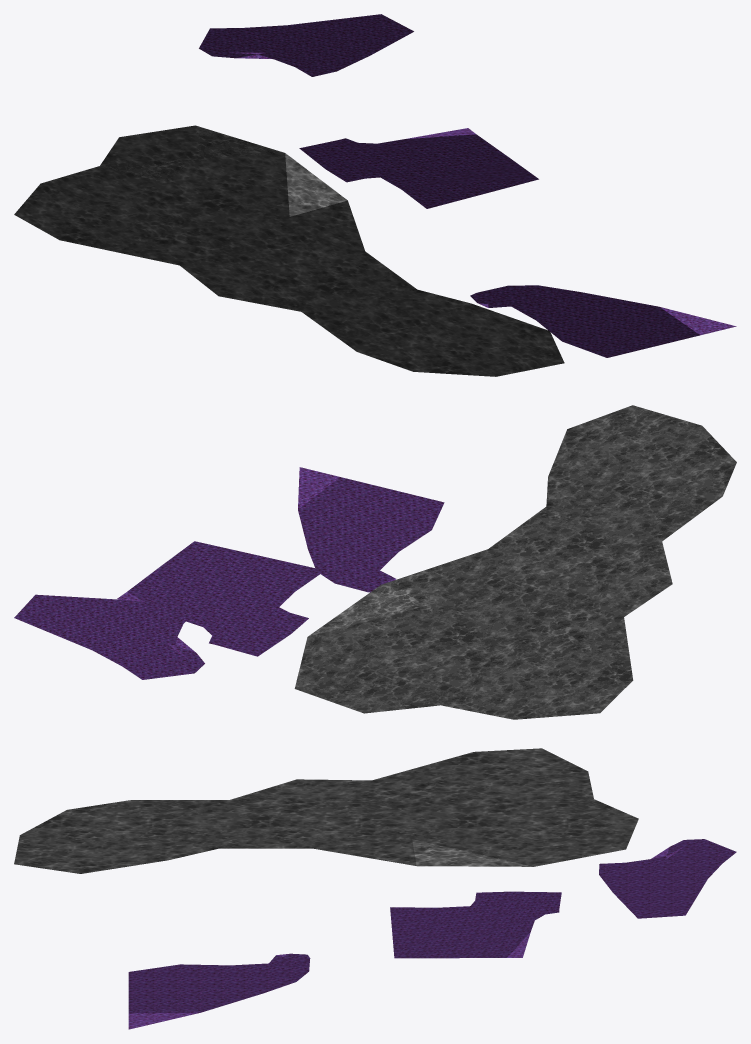
The model's file is stg410_MotWater_07.obj.
The picture shows the model from 3 angles, top to bottom: view 1: azimuth 30°, elevation 25°; view 2: azimuth 150°, elevation 25°; view 3: azimuth 270°, elevation 25°; orthographic projection. The views are drawn at different scales.
Visible parts, largest first — view 1: polygon0, polygon2, polygon1, polygon3; view 2: polygon0, polygon2, polygon1, polygon3; view 3: polygon0, polygon2, polygon1, polygon3.
Part boxes in pixels (x1,y1,x2,y2): polygon0: [14, 125, 564, 376]; polygon2: [299, 128, 538, 208]; polygon1: [470, 285, 736, 357]; polygon3: [199, 14, 413, 76]; polygon0: [294, 405, 736, 719]; polygon2: [117, 541, 324, 656]; polygon1: [298, 467, 444, 592]; polygon3: [14, 594, 204, 679]; polygon0: [14, 748, 638, 873]; polygon2: [390, 891, 561, 958]; polygon1: [128, 953, 310, 1029]; polygon3: [599, 839, 736, 918].
Bounding box in the file's own units: 4217 × 819 × 5843.
2 materials, 2 textured.
